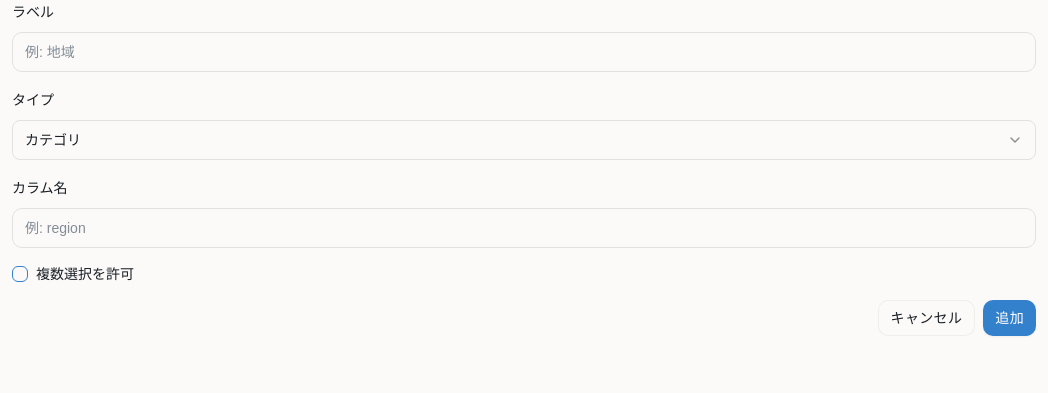
it: FilterDefinitionForm › 空のラベルでSubmitするとエラーを表示する
The width and height of the screenshot is (1048, 393).
What coordinates should you click on to do the following:
click the button "追加"
I would click on:
 (1010, 318)
Its box is x1=983 y1=300 x2=1036 y2=336.
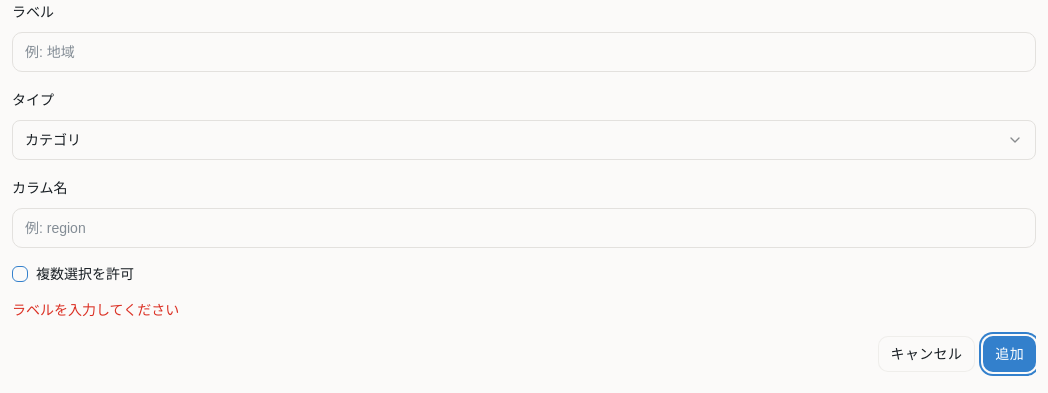
Check: the text "ラベルを入力してください" is shown, box x1=12 y1=302 x2=179 y2=318
